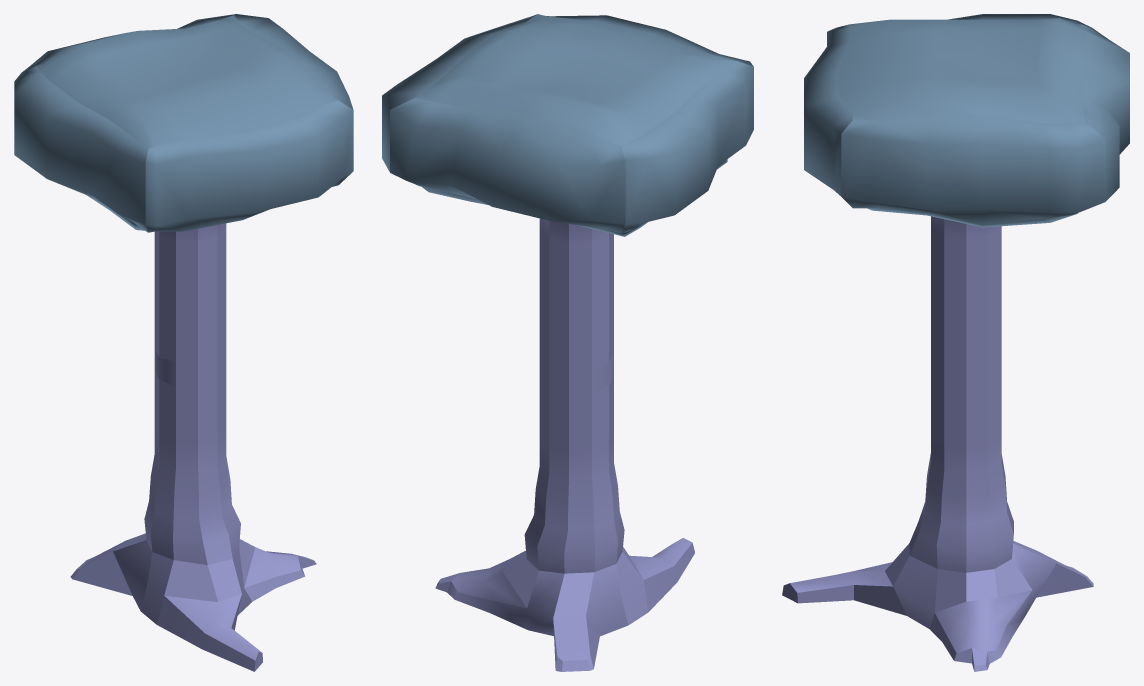
The model's file is Night_Platform_tree.fbx.
3 renders of one model, left to right at view 1: azimuth 30°, elevation 25°; view 2: azimuth 150°, elevation 25°; view 3: azimuth 270°, elevation 25°, orthographic. The views are drawn at different scales.
Visible parts, largest first — view 1: pCube3, pCylinder1; view 2: pCube3, pCylinder1; view 3: pCube3, pCylinder1.
Boxes of the visible parts, x1,y1,x2,y2 form: pCube3: [14, 14, 353, 232]; pCylinder1: [70, 223, 316, 671]; pCube3: [382, 14, 753, 236]; pCylinder1: [435, 218, 694, 671]; pCube3: [804, 14, 1129, 227]; pCylinder1: [782, 216, 1093, 671].
Bounding box in the file's own units: 39.25 × 75.15 × 42.66.
